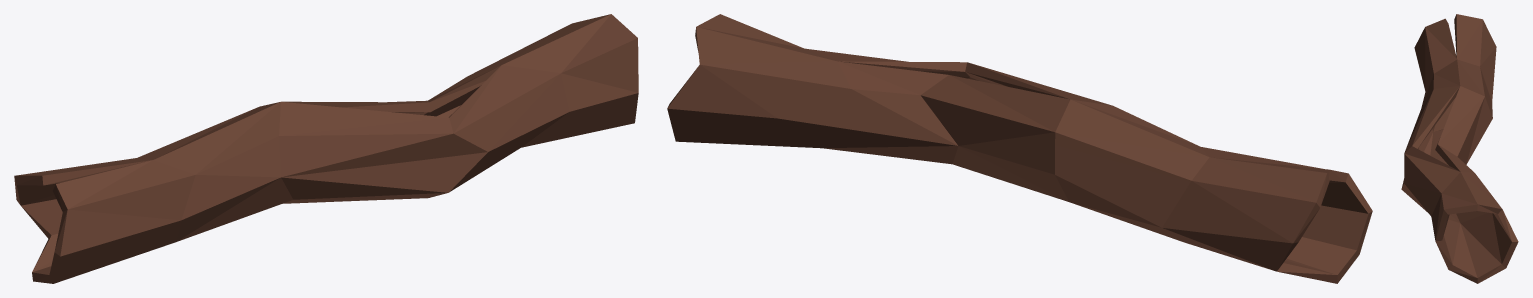
Rendered from Wooden Log_1.fbx.
3 views of the same model, side by side, from view 1: azimuth 30°, elevation 25°; view 2: azimuth 150°, elevation 25°; view 3: azimuth 270°, elevation 25° (orthographic). The views are drawn at different scales.
Parts seen in each view (by area): view 1: Wooden Log_1; view 2: Wooden Log_1; view 3: Wooden Log_1.
Part boxes in pixels (x1,y1,x2,y2): Wooden Log_1: [14, 14, 638, 283]; Wooden Log_1: [667, 14, 1372, 283]; Wooden Log_1: [1401, 14, 1518, 283].
Bounding box in the file's own units: 2.41 × 0.4384 × 0.5825.
